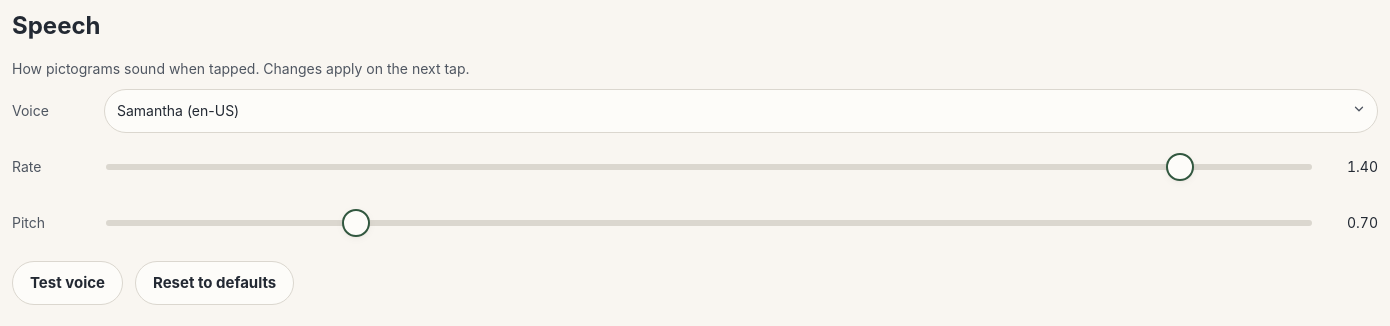
Test: SpeechPrefsSection › Reset to defaults clears stored prefs and resets sliders
This screenshot has width=1390, height=326.
Expected: the slider labelled "Rate 1.40" holds "1.4", [106, 164, 1312, 170]
Click the button "Reset to defaults" at x=215, y=283, box [135, 261, 294, 305]
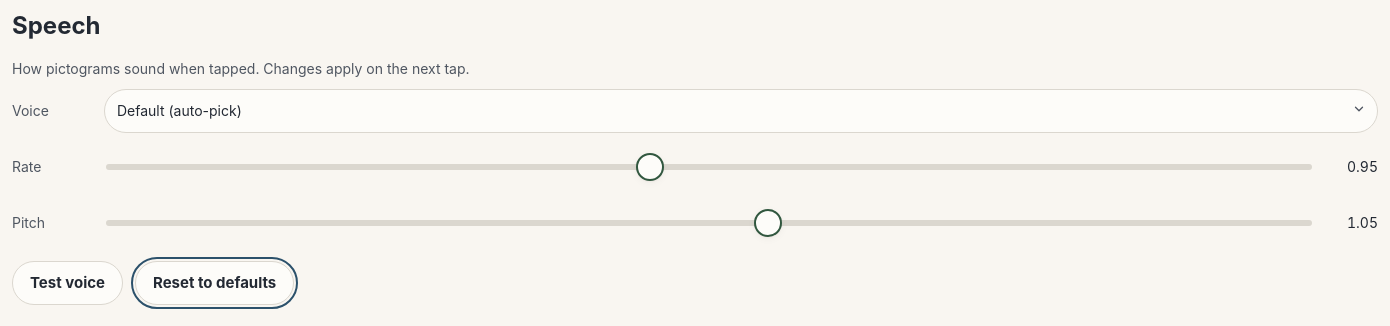
Now the slider labelled "Rate 0.95" holds "0.95", box [106, 164, 1312, 170]
